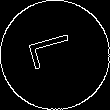L_E: (26, 33, 84, 77)
